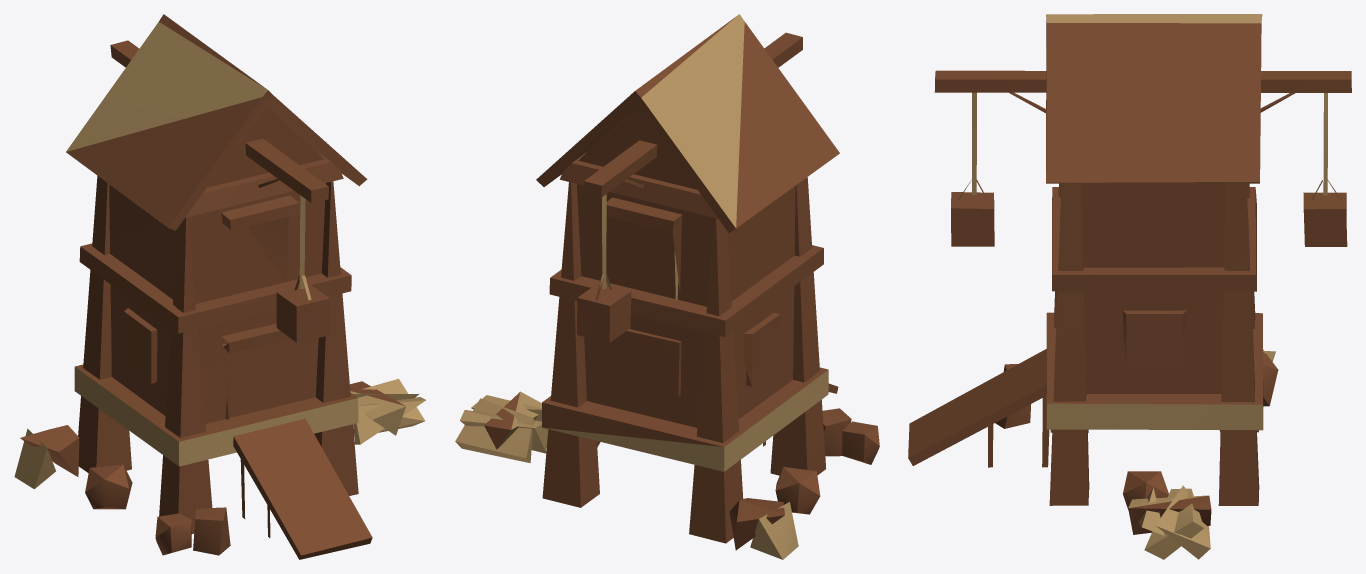
Rendered from supply33.2.glb.
The picture shows the model from 3 angles, left to right: view 1: azimuth 30°, elevation 25°; view 2: azimuth 150°, elevation 25°; view 3: azimuth 270°, elevation 25°; orthographic projection. The views are drawn at different scales.
Parts seen in each view (by area): view 1: supply33; view 2: supply33; view 3: supply33.
Boxes of the visible parts, x1=… form: supply33: x1=14, y1=14, x2=425, y2=559; supply33: x1=455, y1=14, x2=879, y2=559; supply33: x1=908, y1=14, x2=1351, y2=559.
Bounding box in the file's own units: 2.81 × 3.21 × 2.9.
